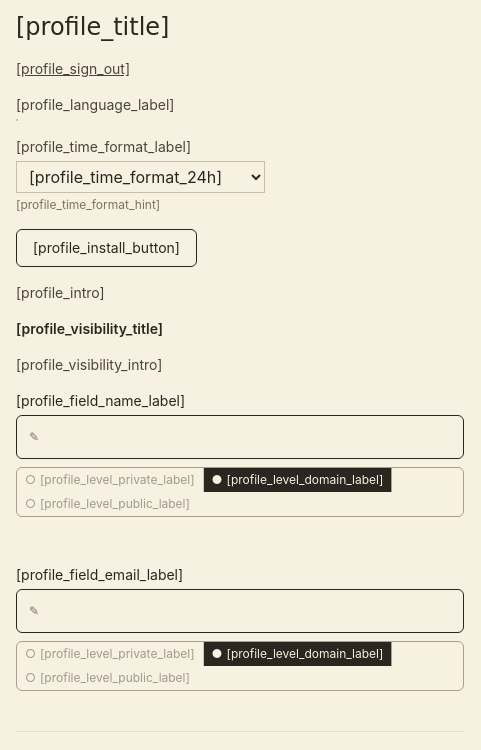
Test: /profile — install button, 'prompt' state (#408) › a REJECTED prompt() removes the button and logs — never an inert control
The image size is (481, 750).
Check: the dropdown with test id "profile-time-format" is shown, box [16, 161, 265, 193]
What coordinates should you click on to do the following:
click the button with test id "profile-install-button"
I would click on:
 (106, 248)
Its box is [16, 229, 197, 267].
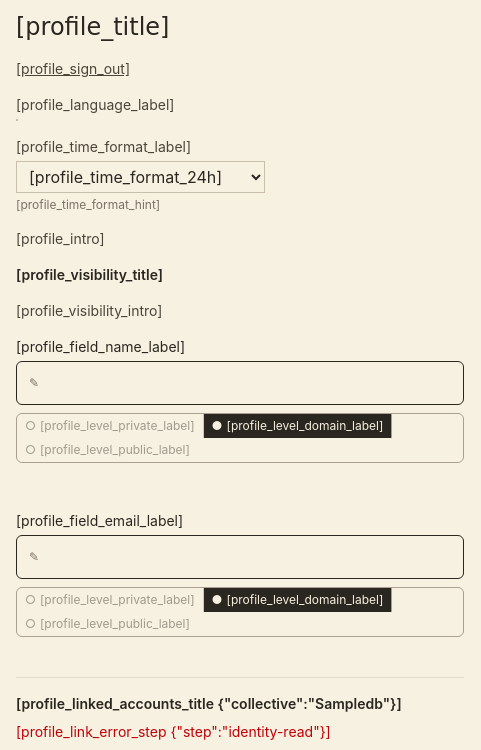
Check: the button with test id "profile-install-button" is gone
